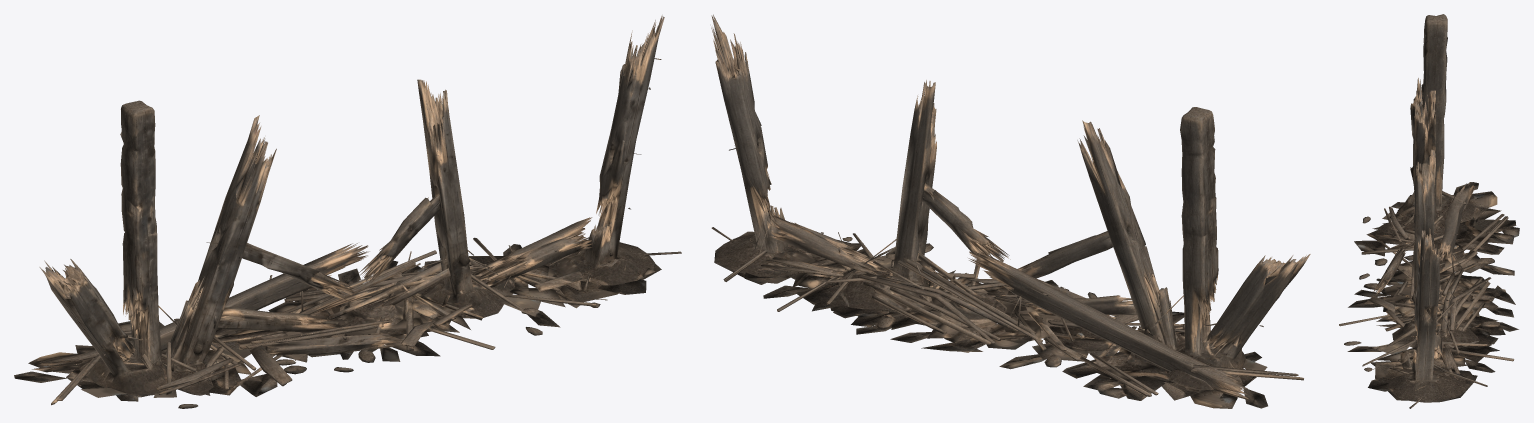
The model's file is des-fence-rubble_optimized.glb.
3 views of the same model, side by side, from view 1: azimuth 30°, elevation 25°; view 2: azimuth 150°, elevation 25°; view 3: azimuth 270°, elevation 25° (orthographic). The views are drawn at different scales.
Visible parts, largest first — view 1: Mesh_0; view 2: Mesh_0; view 3: Mesh_0.
Part boxes in pixels (x1,y1,x2,y2): Mesh_0: [14, 15, 681, 408]; Mesh_0: [711, 14, 1310, 408]; Mesh_0: [1339, 14, 1519, 408].
Size of the model in its own units: 0.9565 by 0.3892 by 0.3145.
Materials: 1 (1 with a texture image).
